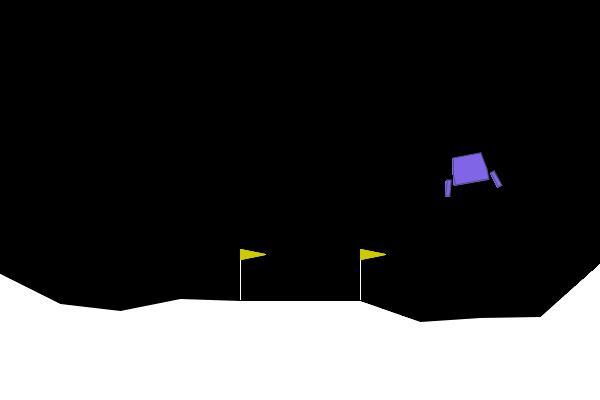lander: (437, 148, 503, 199)
